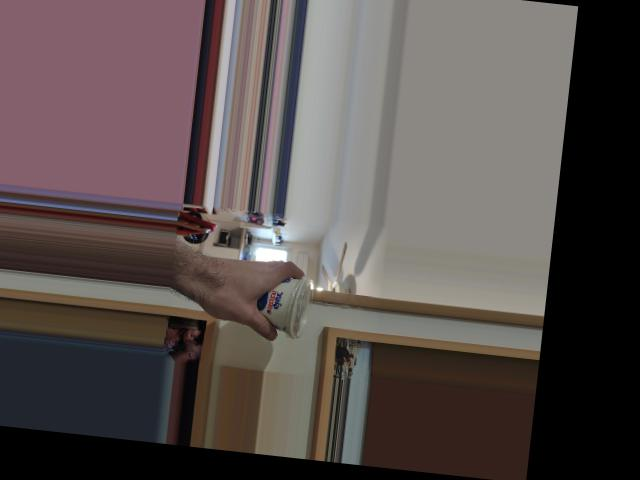cotage: (239, 265, 316, 337)
